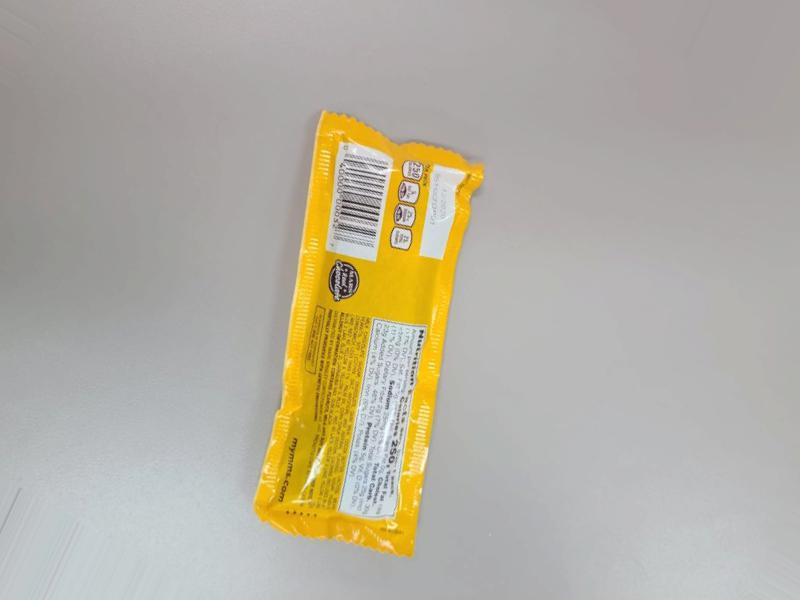m&m: (249, 79, 437, 593)
